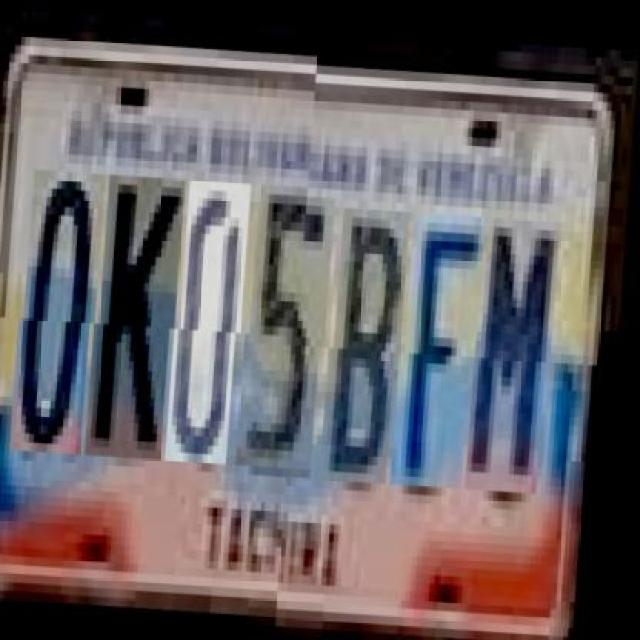0: (176, 185, 253, 470)
5: (246, 190, 339, 475)
b: (332, 203, 413, 479)
f: (402, 206, 488, 483)
k: (95, 182, 188, 466)
m: (478, 209, 564, 486)
o: (21, 178, 107, 462)
